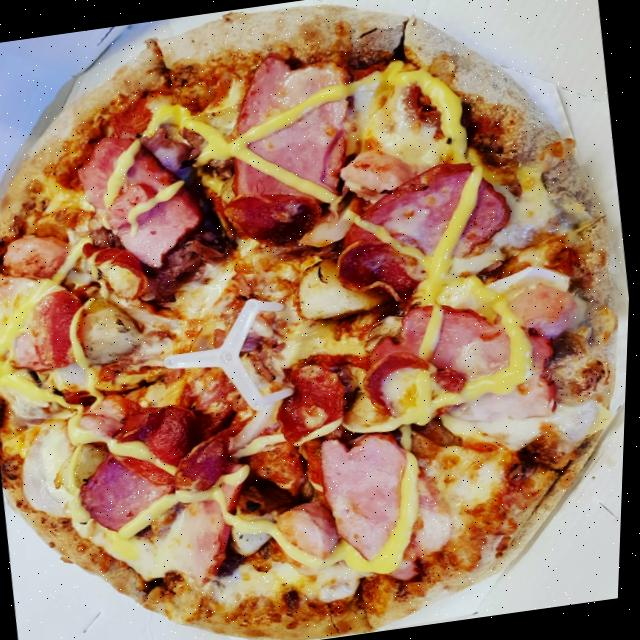pepperoni: (359, 342, 474, 422), (115, 396, 212, 489), (218, 184, 330, 258), (267, 355, 360, 443), (332, 225, 436, 302), (161, 421, 247, 503), (76, 230, 153, 305)
pizza: (0, 0, 640, 640)
